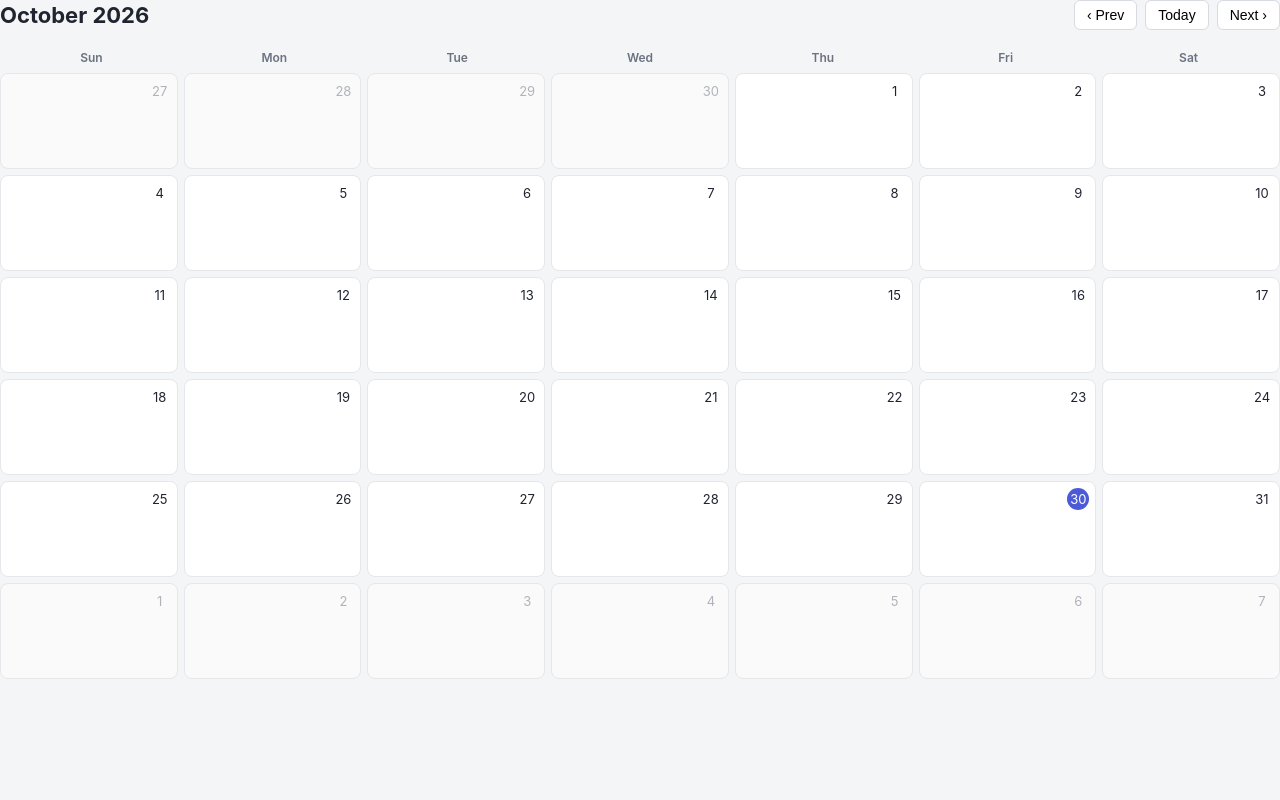
Test case: deleting a post removes it from the cell
Click the 2nd button "30" at x=1007, y=529, box [919, 481, 1096, 577]
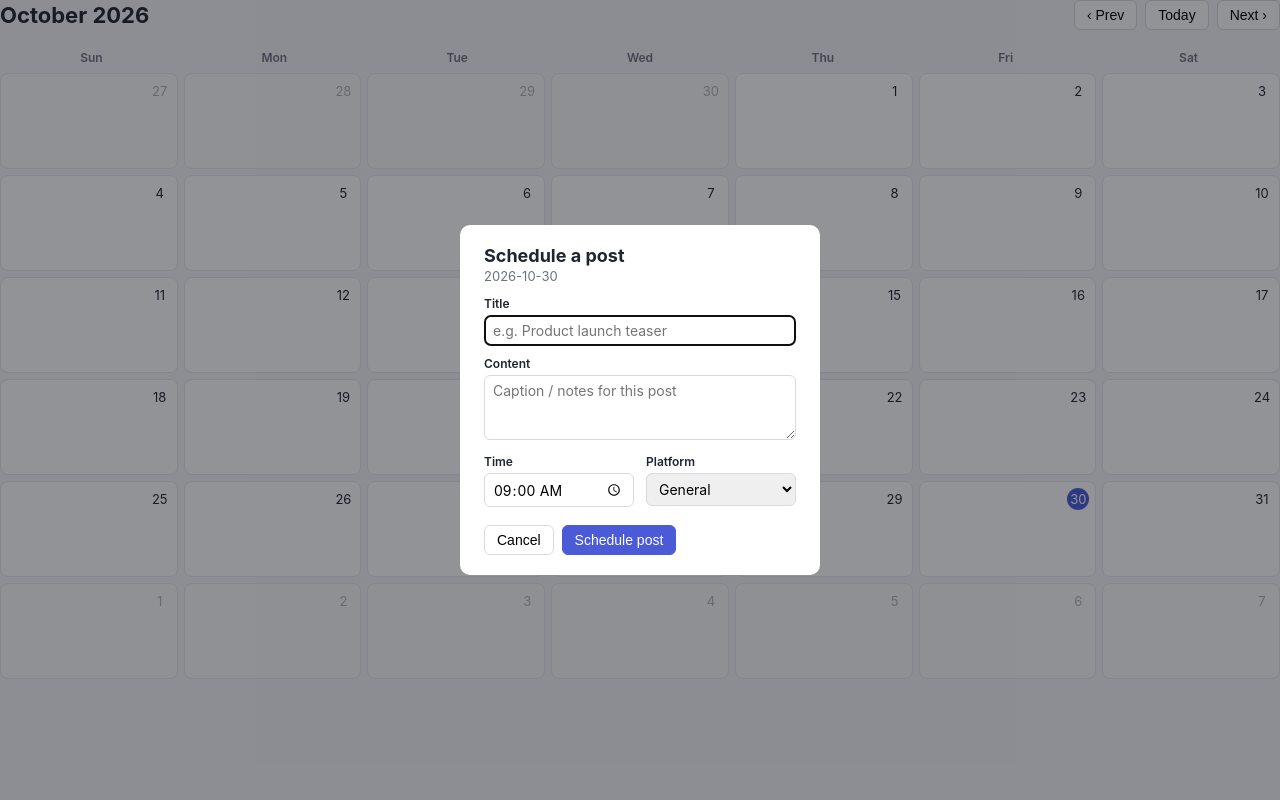
Type "To be deleted" into the field labelled "Title" at x=640, y=330, box [484, 315, 796, 346]
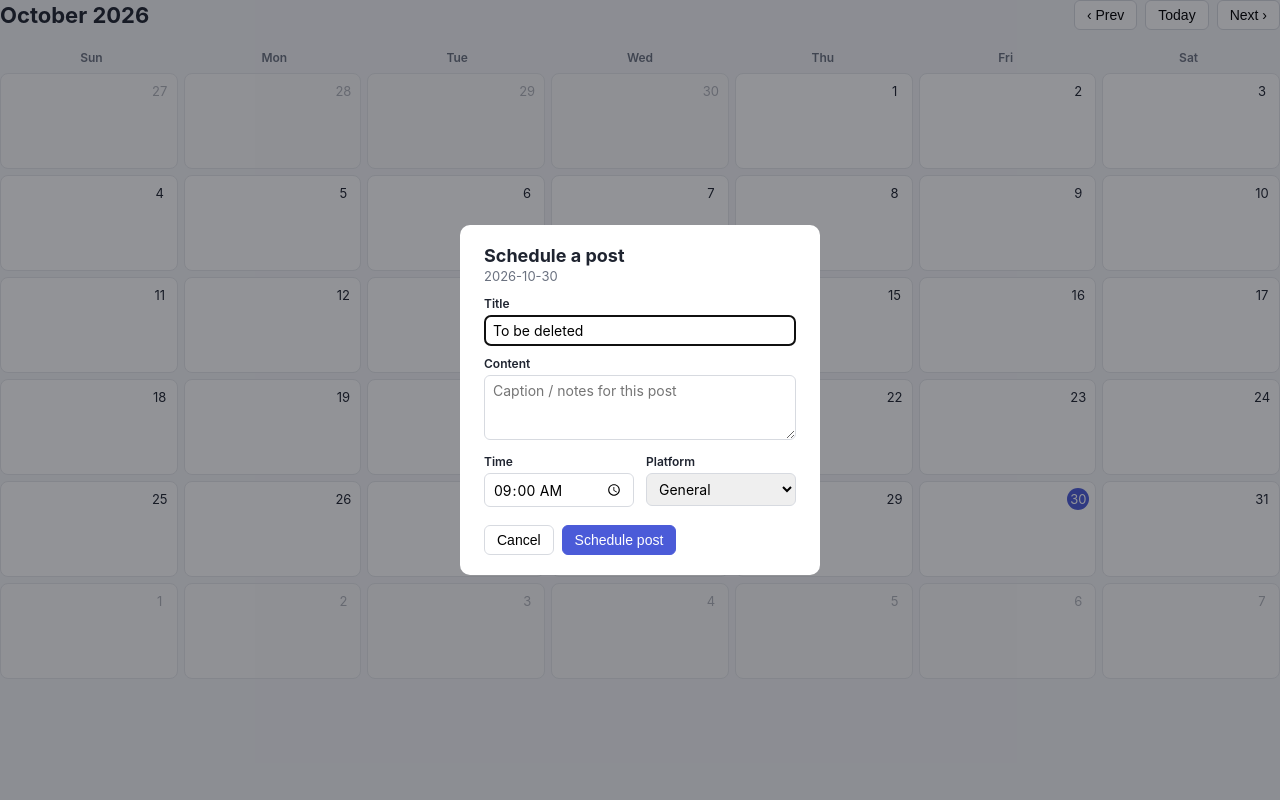
Click the button "Schedule post" at x=619, y=540, box [562, 525, 676, 555]
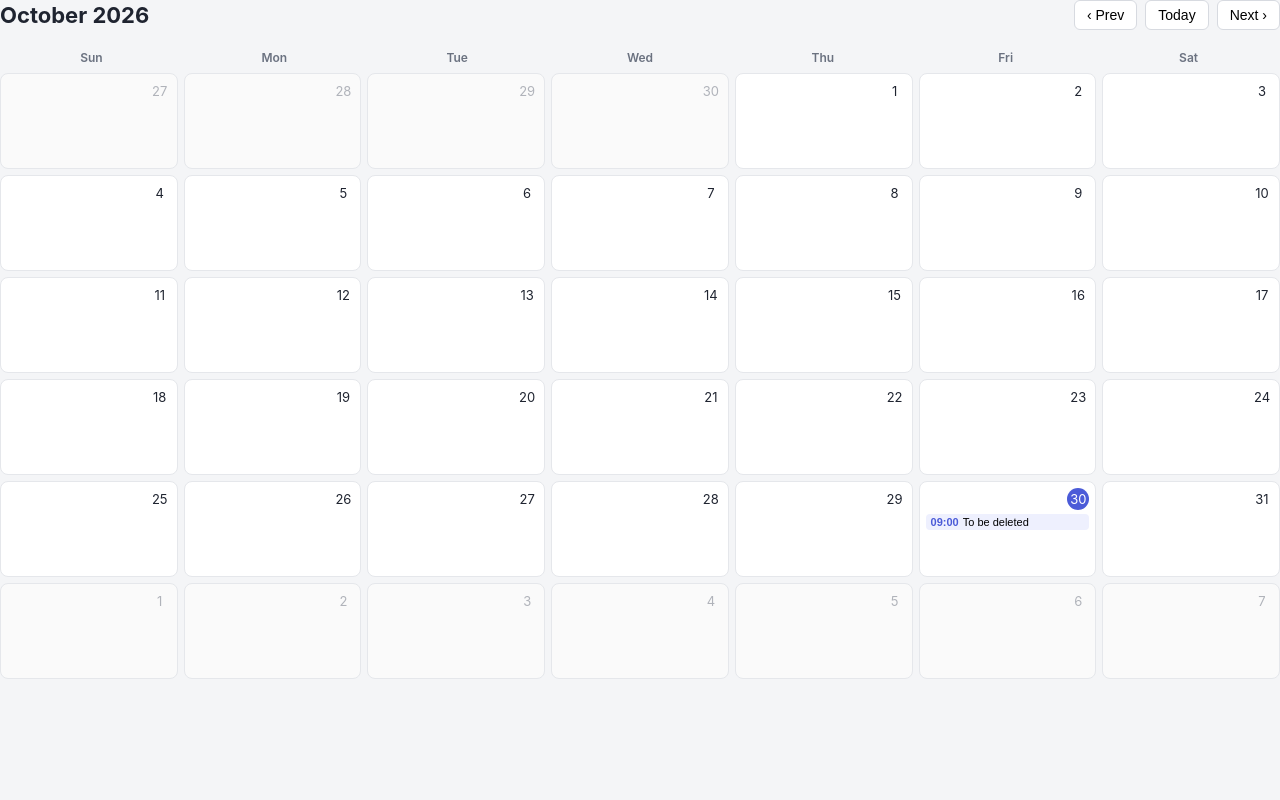
Click the text "To be deleted" at x=996, y=522, box [963, 516, 1029, 528]
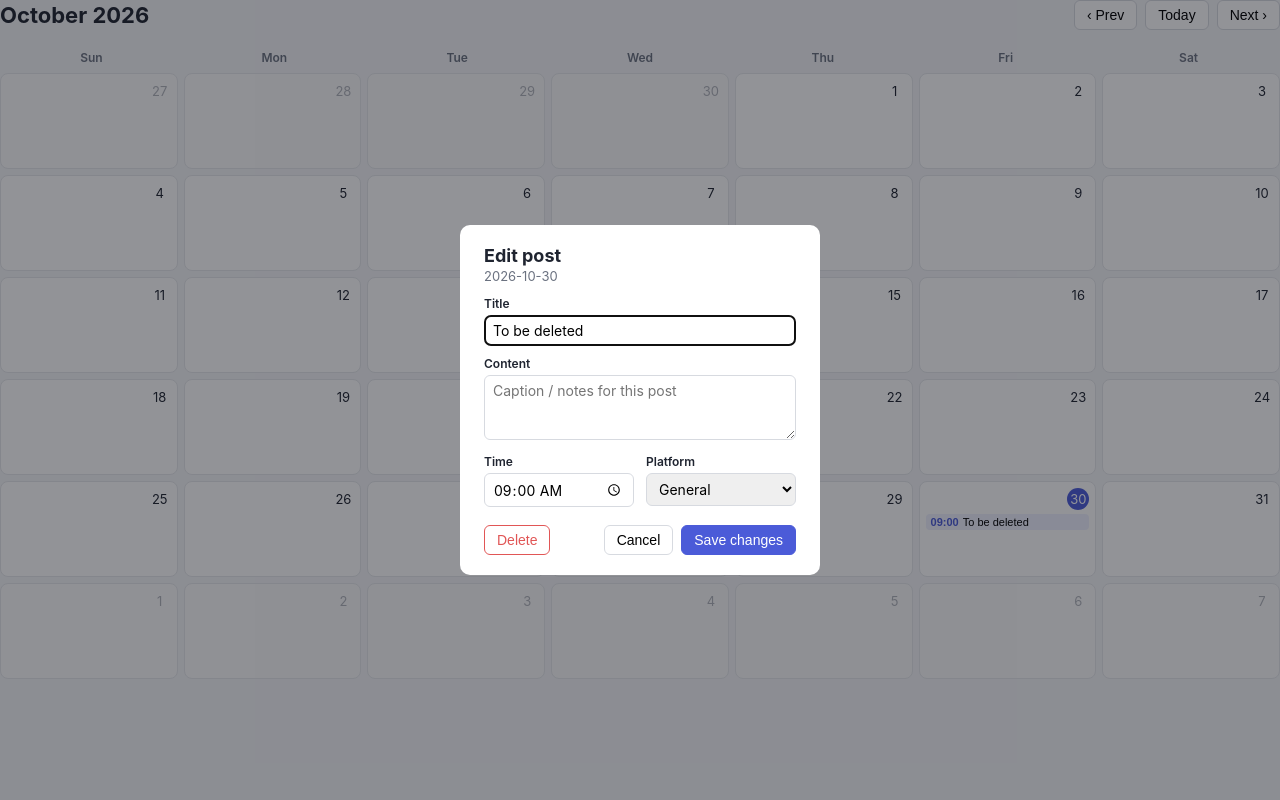
Click the button "Delete" at x=517, y=540, box [484, 525, 550, 555]
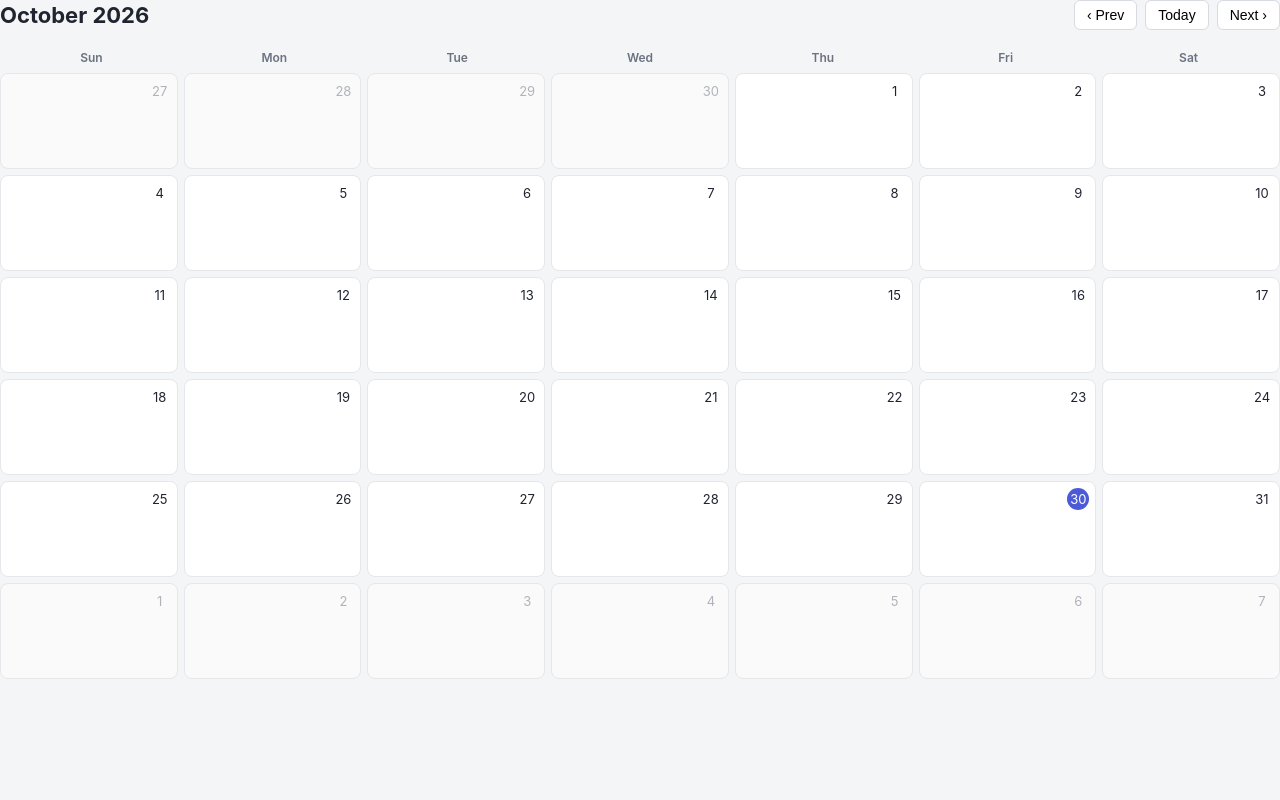
Check: the button "To be deleted" is gone
